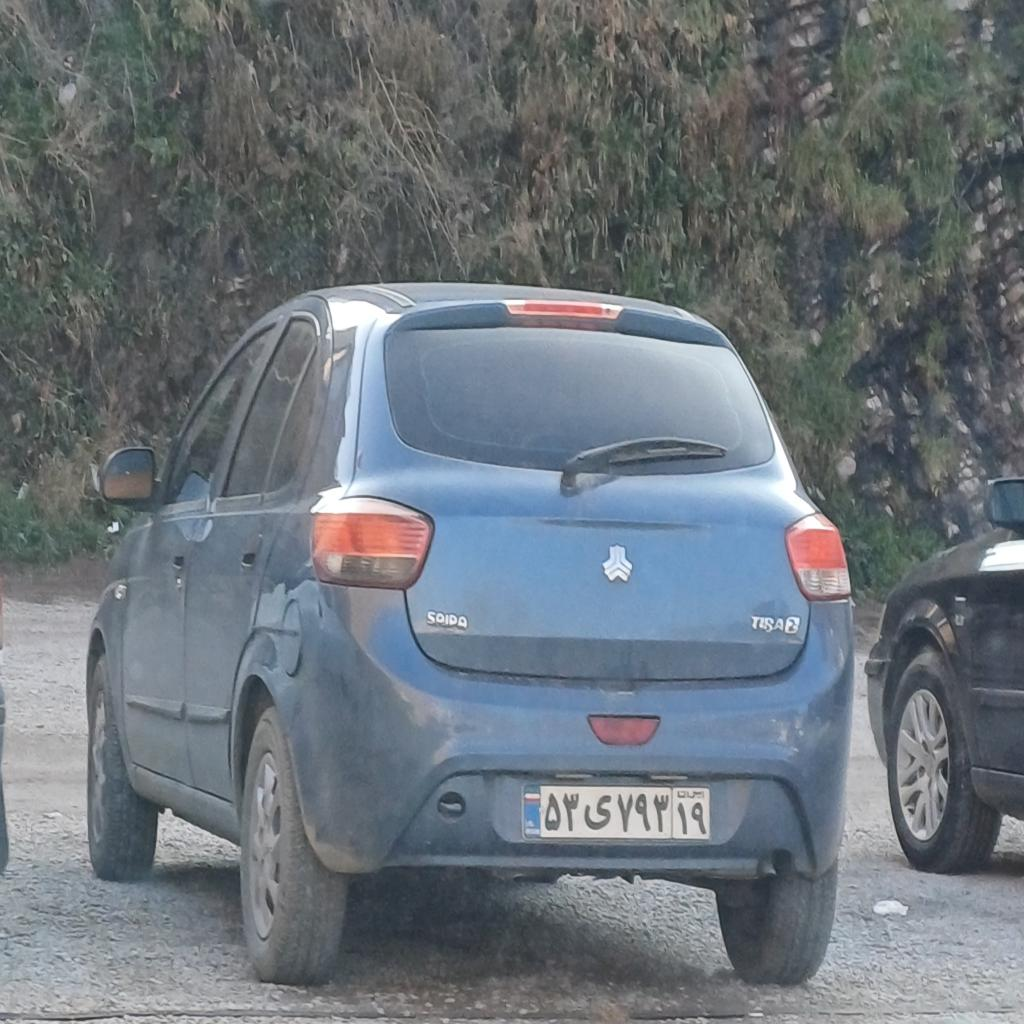Plates: (523, 784, 711, 839)
